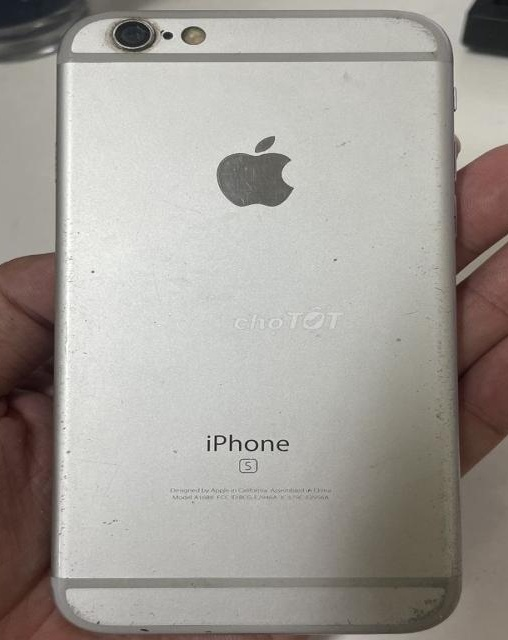scratch: (429, 115, 464, 581), (198, 115, 324, 225), (292, 3, 458, 53), (375, 563, 449, 633), (94, 7, 179, 62), (68, 597, 170, 633)
